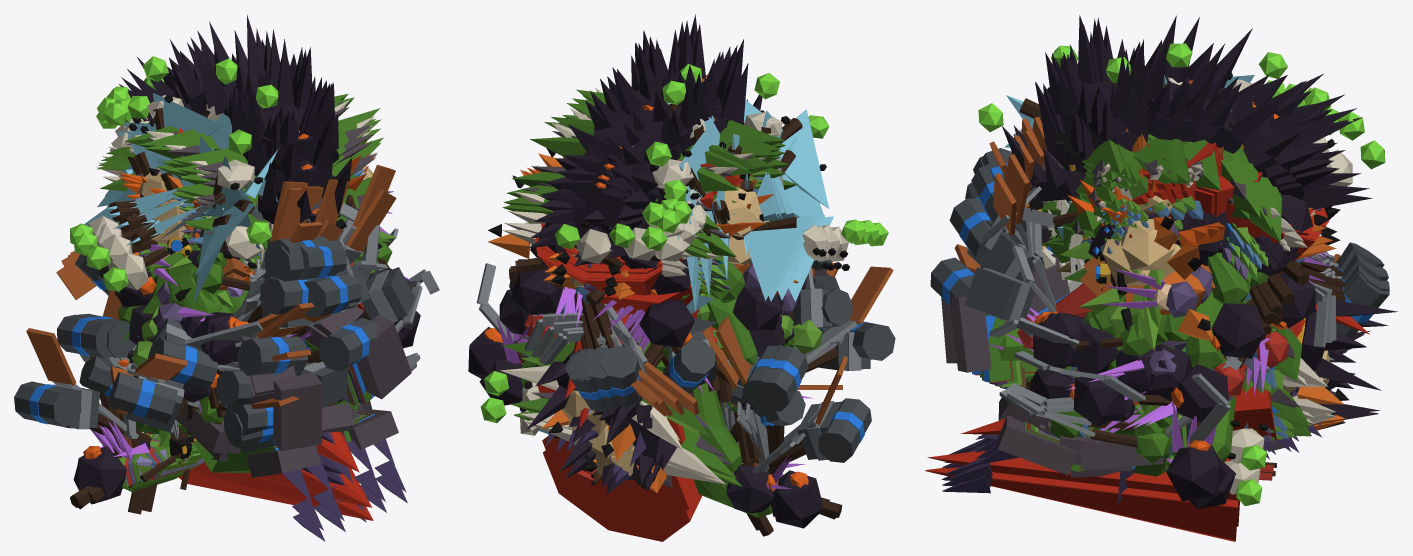
The model's file is creeps.glb.
3 views of the same model, side by side, from view 1: azimuth 30°, elevation 25°; view 2: azimuth 150°, elevation 25°; view 3: azimuth 270°, elevation 25° (orthographic). The views are drawn at different scales.
Parts seen in each view (by area): view 1: chief_volcano_die_2, chief_volcano_run_2, chief_volcano_die_3, chief_volcano_attack_5, chief_volcano_die_1, chief_volcano_attack_1, chief_desert_attack_2, chief_volcano_die_5, chief_volcano_attack_4, chief_volcano_run_0, chief_volcano_die_4, chief_volcano_attack_2 (+79 smaller); view 2: chief_volcano_die_3, chief_volcano_die_2, chief_volcano_cast_1, chief_volcano_attack_2, chief_volcano_cast_4, chief_volcano_attack_1, chief_volcano_die_1, chief_meadow_die_2, chief_volcano_cast_2, chief_snow_cast_4, chief_volcano_die_5, chief_meadow_die_3 (+58 smaller); view 3: chief_volcano_die_2, chief_volcano_cast_2, chief_volcano_attack_1, chief_volcano_die_3, chief_volcano_cast_1, chief_volcano_die_1, chief_volcano_die_5, chief_volcano_attack_2, chief_autumn_attack_2, chief_volcano_attack_4, chief_volcano_run_2, chief_desert_attack_4 (+55 smaller).
Part boxes in pixels (x1,y1,x2,y2): chief_volcano_die_2: (136, 315, 411, 472); chief_volcano_run_2: (167, 47, 392, 338); chief_volcano_die_3: (77, 306, 420, 507); chief_volcano_attack_5: (174, 77, 383, 313); chief_volcano_die_1: (100, 47, 398, 477); chief_volcano_attack_1: (118, 31, 369, 307); chief_desert_attack_2: (131, 167, 331, 366); chief_volcano_die_5: (74, 325, 414, 520); chief_volcano_attack_4: (179, 117, 371, 419); chief_volcano_run_0: (156, 60, 380, 432); chief_volcano_die_4: (73, 325, 412, 519); chief_volcano_attack_2: (124, 15, 265, 202); chief_volcano_die_3: (468, 266, 828, 529); chief_volcano_die_2: (479, 262, 831, 513); chief_volcano_cast_1: (511, 43, 780, 347); chief_volcano_attack_2: (530, 67, 774, 204); chief_volcano_cast_4: (502, 171, 740, 422); chief_volcano_attack_1: (509, 36, 783, 330); chief_volcano_die_1: (499, 137, 761, 416); chief_meadow_die_2: (500, 357, 871, 489); chief_volcano_cast_2: (511, 129, 766, 269); chief_snow_cast_4: (509, 172, 813, 300); chief_volcano_die_5: (469, 274, 823, 541); chief_meadow_die_3: (520, 346, 808, 479); chief_volcano_die_2: (941, 296, 1397, 508); chief_volcano_cast_2: (1080, 73, 1345, 470); chief_volcano_attack_1: (1070, 15, 1264, 471); chief_volcano_die_3: (927, 254, 1379, 526); chief_volcano_cast_1: (1059, 17, 1315, 471); chief_volcano_die_1: (997, 81, 1328, 475); chief_volcano_die_5: (925, 292, 1378, 541); chief_volcano_attack_2: (1153, 28, 1286, 273); chief_autumn_attack_2: (981, 186, 1213, 463); chief_volcano_attack_4: (1002, 82, 1369, 431); chief_volcano_run_2: (1041, 15, 1218, 372); chief_desert_attack_4: (1004, 154, 1180, 350).
Bounding box in the file's own units: 2.9 × 3.28 × 2.79.
